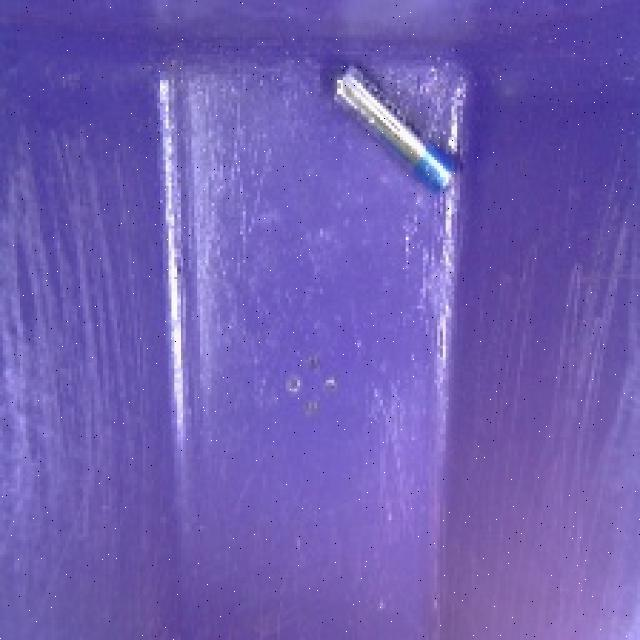battery: (324, 45, 470, 210)
